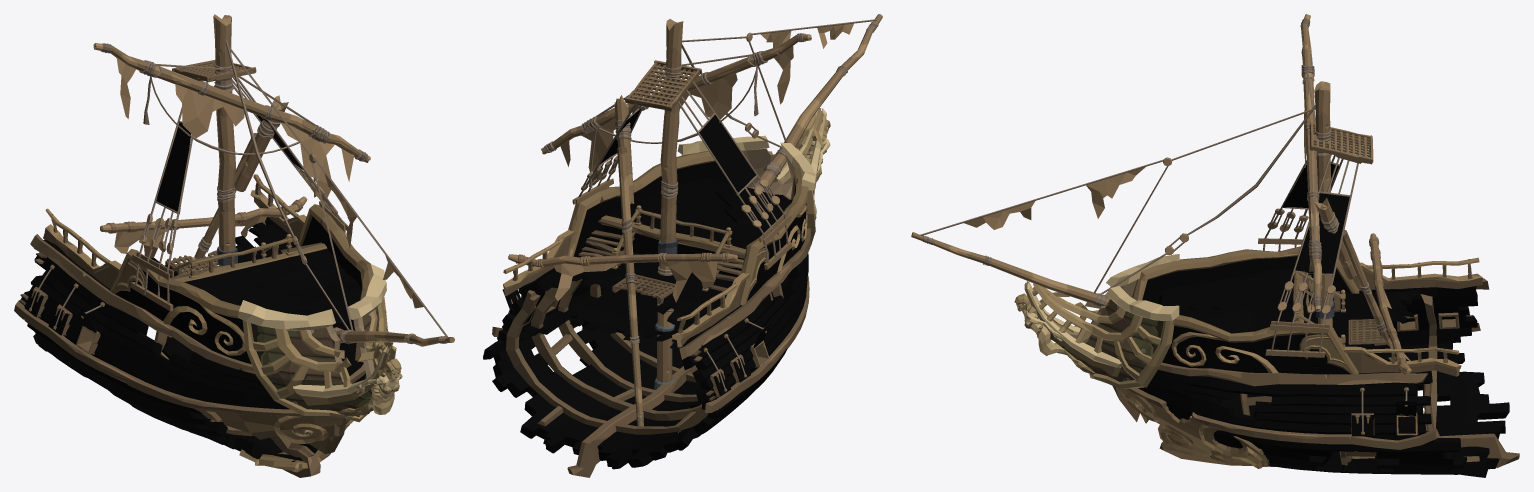
Rendered from SM_Prop_Wreck_Large_Front_01.fbx.
3 views of the same model, side by side, from view 1: azimuth 30°, elevation 25°; view 2: azimuth 150°, elevation 25°; view 3: azimuth 270°, elevation 25° (orthographic). The views are drawn at different scales.
Visible parts, largest first — view 1: SM_Prop_Wreck_Large_Front_01, SM_Prop_Wreck_Large_Front_01_Mast; view 2: SM_Prop_Wreck_Large_Front_01, SM_Prop_Wreck_Large_Front_01_Mast; view 3: SM_Prop_Wreck_Large_Front_01, SM_Prop_Wreck_Large_Front_01_Mast.
Part boxes in pixels (bbox=[...]): SM_Prop_Wreck_Large_Front_01: bbox=[14, 174, 402, 477]; SM_Prop_Wreck_Large_Front_01_Mast: bbox=[93, 14, 454, 346]; SM_Prop_Wreck_Large_Front_01: bbox=[483, 108, 830, 477]; SM_Prop_Wreck_Large_Front_01_Mast: bbox=[508, 14, 882, 426]; SM_Prop_Wreck_Large_Front_01: bbox=[1014, 246, 1519, 477]; SM_Prop_Wreck_Large_Front_01_Mast: bbox=[911, 14, 1427, 431].
Size of the model in its own units: 1450 by 2101 by 2963.
